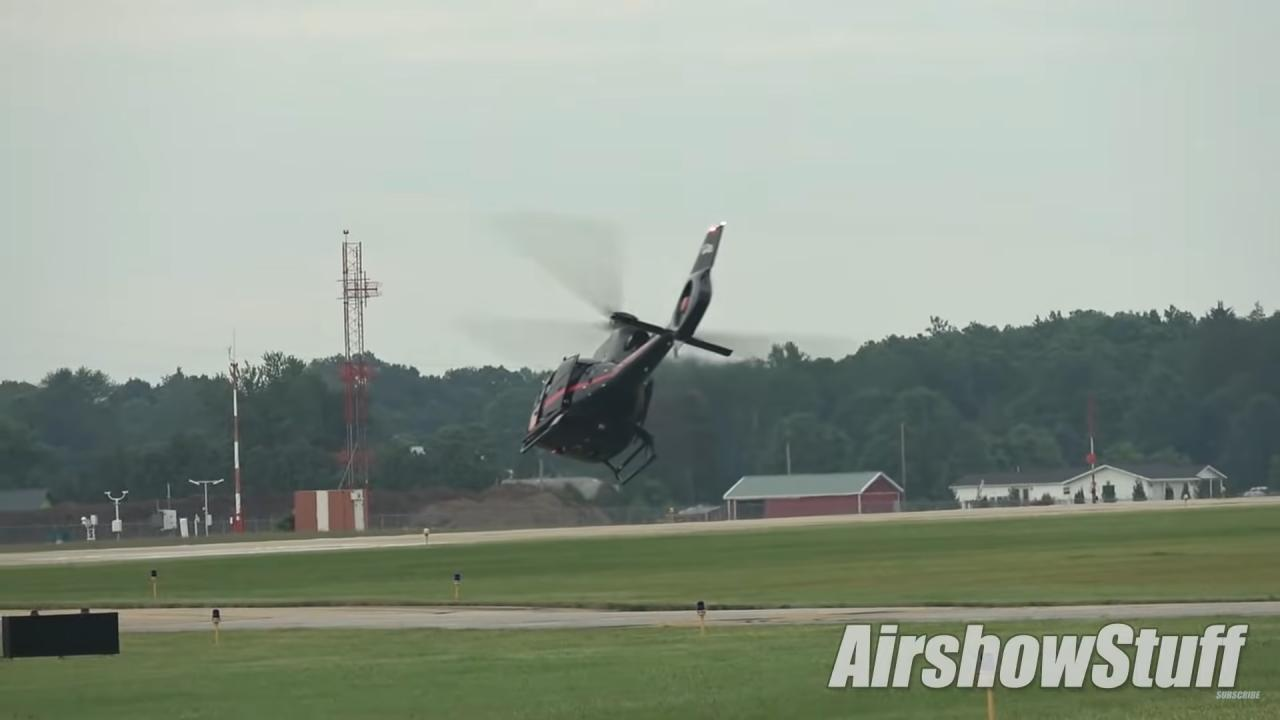Helicopter: (428, 185, 869, 509)
